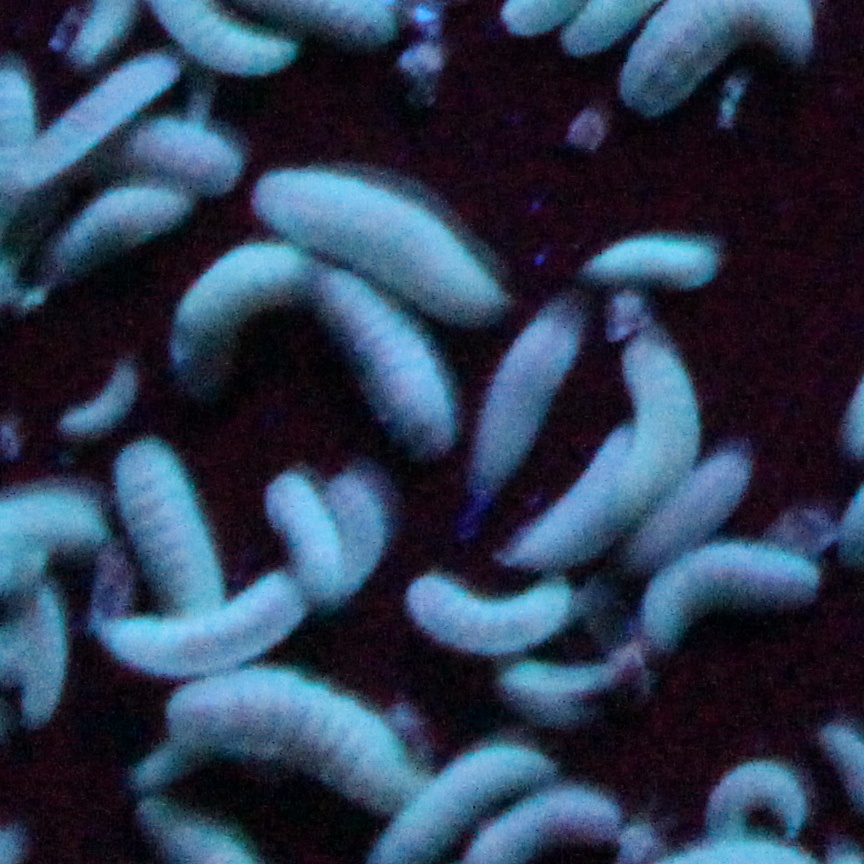larve: (252, 170, 505, 322), (165, 671, 414, 812), (322, 265, 454, 456), (101, 567, 302, 675), (17, 54, 173, 182), (116, 441, 222, 618), (644, 544, 818, 649), (388, 747, 544, 864), (170, 242, 306, 368), (479, 317, 578, 477), (510, 431, 625, 567), (619, 341, 699, 515), (637, 453, 749, 567), (408, 576, 571, 651), (51, 188, 183, 274), (497, 647, 646, 723), (269, 475, 344, 602), (705, 762, 808, 838), (133, 121, 239, 192), (585, 236, 718, 288), (326, 476, 381, 593), (57, 363, 136, 431), (25, 595, 65, 719), (130, 739, 193, 788)
